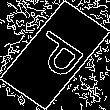P_SE: (21, 25, 89, 85)
